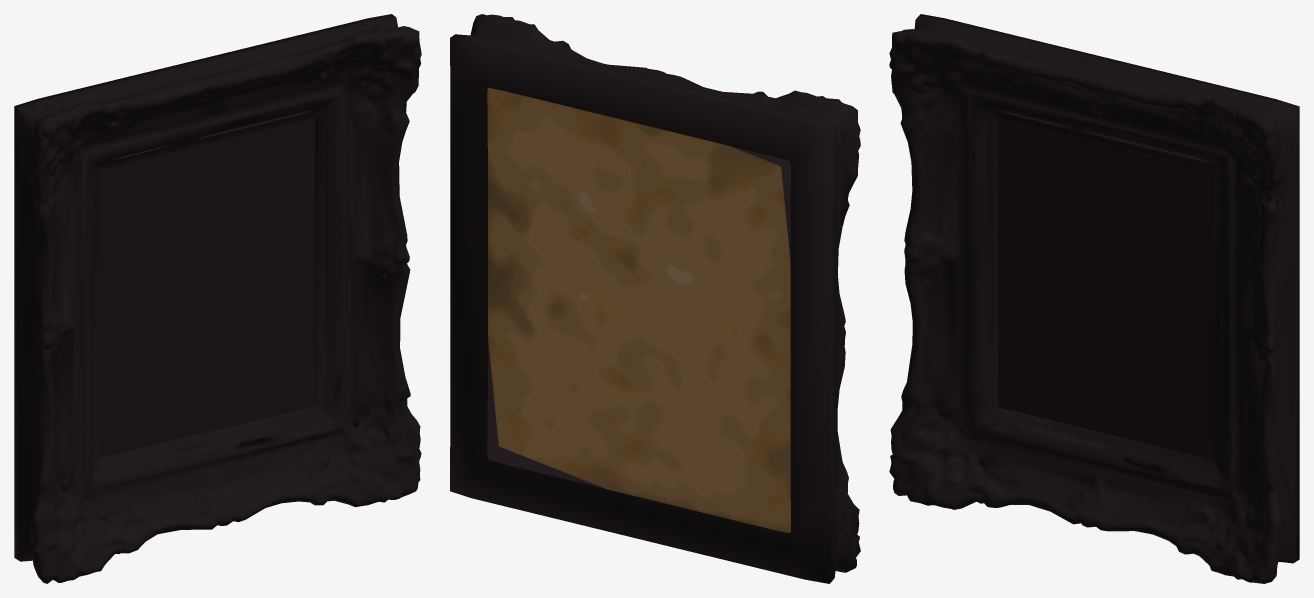
Rendered from SM_Int_PaintingB.fbx.
3 renders of one model, left to right at view 1: azimuth 30°, elevation 25°; view 2: azimuth 150°, elevation 25°; view 3: azimuth 330°, elevation 25°, orthographic.
Visible parts, largest first — view 1: SM_Int_PaintingB; view 2: SM_Int_PaintingB; view 3: SM_Int_PaintingB.
Boxes of the visible parts, bbox=[...] form: SM_Int_PaintingB: bbox=[14, 14, 421, 583]; SM_Int_PaintingB: bbox=[450, 14, 860, 583]; SM_Int_PaintingB: bbox=[889, 14, 1299, 583].
Size of the model in its own units: 0.6678 by 0.7775 by 0.0934.
